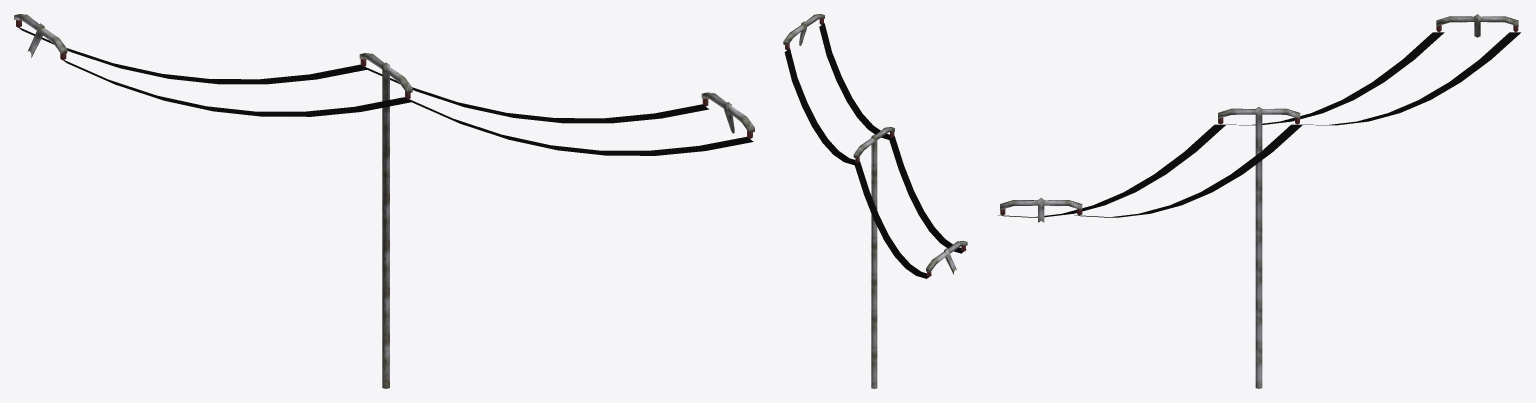
The model's file is M11B_ElectricalPylon02.glb.
3 views of the same model, side by side, from view 1: azimuth 30°, elevation 25°; view 2: azimuth 150°, elevation 25°; view 3: azimuth 270°, elevation 25° (orthographic). The views are drawn at different scales.
Parts seen in each view (by area): view 1: M11B_ELECTRICALPYLON02; view 2: M11B_ELECTRICALPYLON02; view 3: M11B_ELECTRICALPYLON02.
Part boxes in pixels (left/top/right/bottom): M11B_ELECTRICALPYLON02: left=14, top=14, right=754, bottom=388; M11B_ELECTRICALPYLON02: left=783, top=14, right=967, bottom=388; M11B_ELECTRICALPYLON02: left=998, top=14, right=1520, bottom=388.
Size of the model in its own units: 16.5 by 11.36 by 19.26.
Materials: 3 (2 with a texture image).
